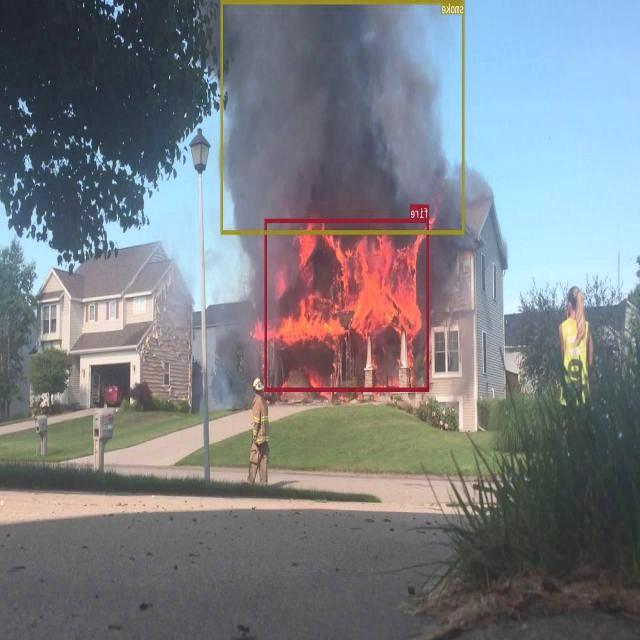fire: (266, 218, 430, 391)
smoke: (221, 0, 465, 233)
